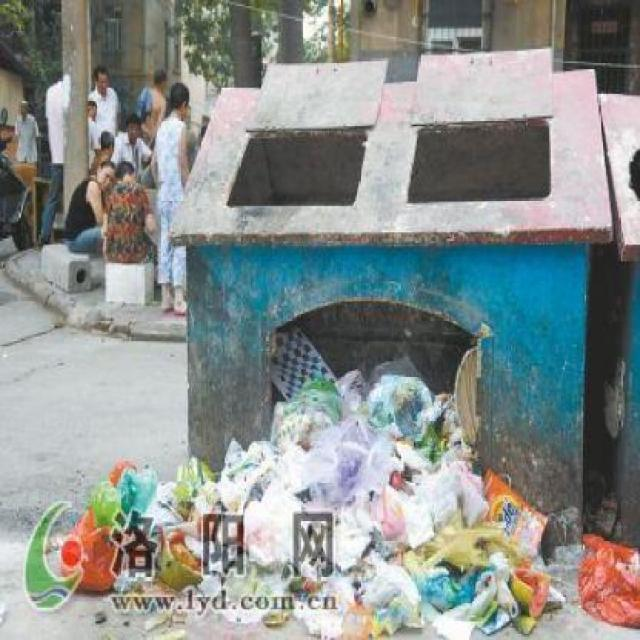garbage: (92, 452, 516, 518), (336, 526, 542, 638), (228, 391, 487, 468), (271, 337, 458, 392), (576, 522, 640, 628)
